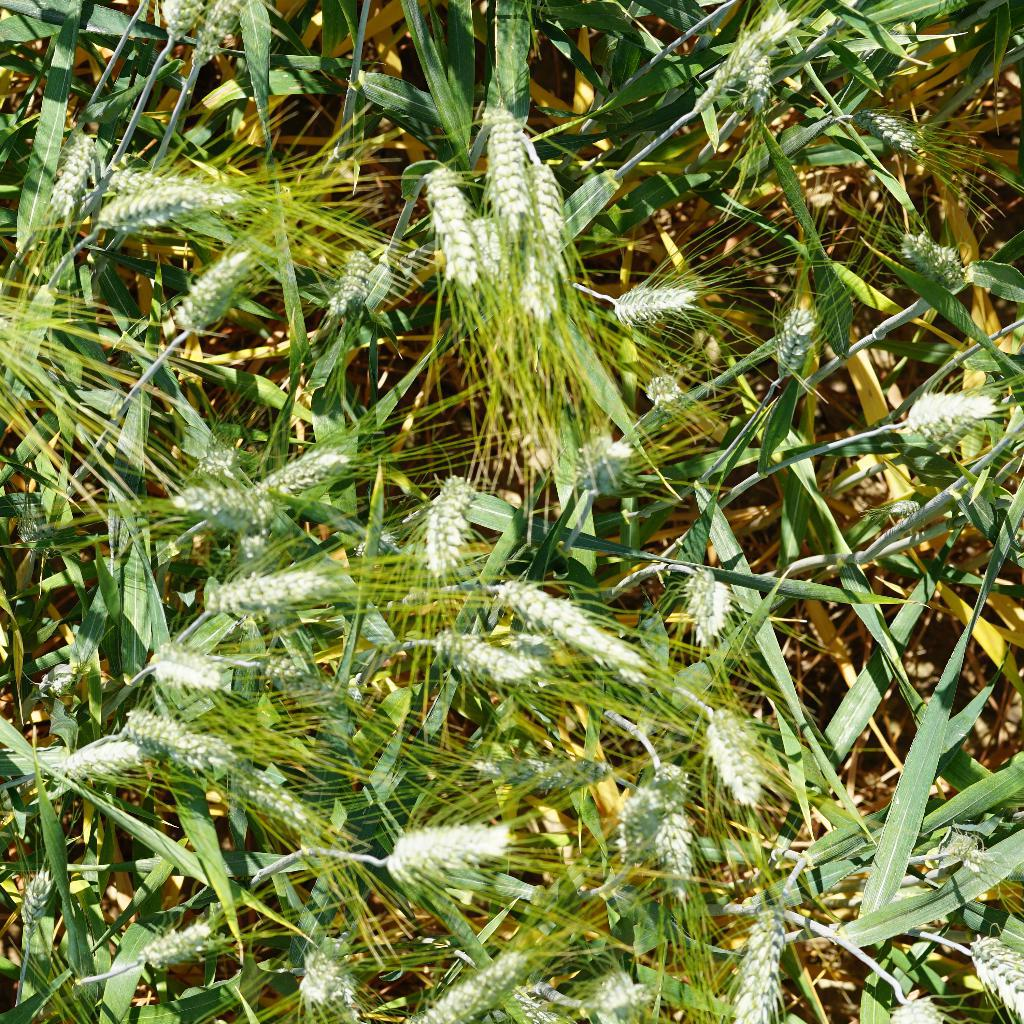0-0: (488, 568, 658, 688), (369, 814, 533, 896), (388, 937, 527, 1024), (191, 553, 339, 631), (159, 228, 264, 332), (686, 695, 769, 818), (88, 146, 240, 213), (524, 154, 579, 337), (119, 706, 242, 787), (408, 154, 481, 290), (164, 473, 284, 553), (231, 438, 362, 511), (468, 733, 595, 802), (725, 894, 792, 1024), (422, 627, 549, 694), (94, 186, 234, 246), (896, 380, 1001, 458), (882, 209, 976, 295), (223, 772, 333, 844), (419, 460, 482, 580), (478, 90, 533, 224), (260, 651, 355, 728), (763, 286, 828, 397), (706, 25, 780, 118), (137, 638, 238, 706), (650, 757, 699, 896), (673, 550, 740, 649), (296, 925, 365, 1019), (123, 914, 230, 973), (46, 111, 98, 231), (610, 770, 672, 867), (604, 273, 704, 332), (320, 230, 378, 329), (565, 425, 634, 504), (856, 97, 940, 161), (52, 733, 145, 785), (576, 961, 651, 1024), (126, 0, 210, 52), (934, 810, 997, 878), (12, 857, 62, 942), (194, 0, 257, 65), (463, 213, 516, 289), (185, 433, 255, 486), (11, 507, 72, 561), (37, 654, 94, 709), (743, 50, 783, 124), (641, 362, 691, 415), (880, 497, 926, 521)
